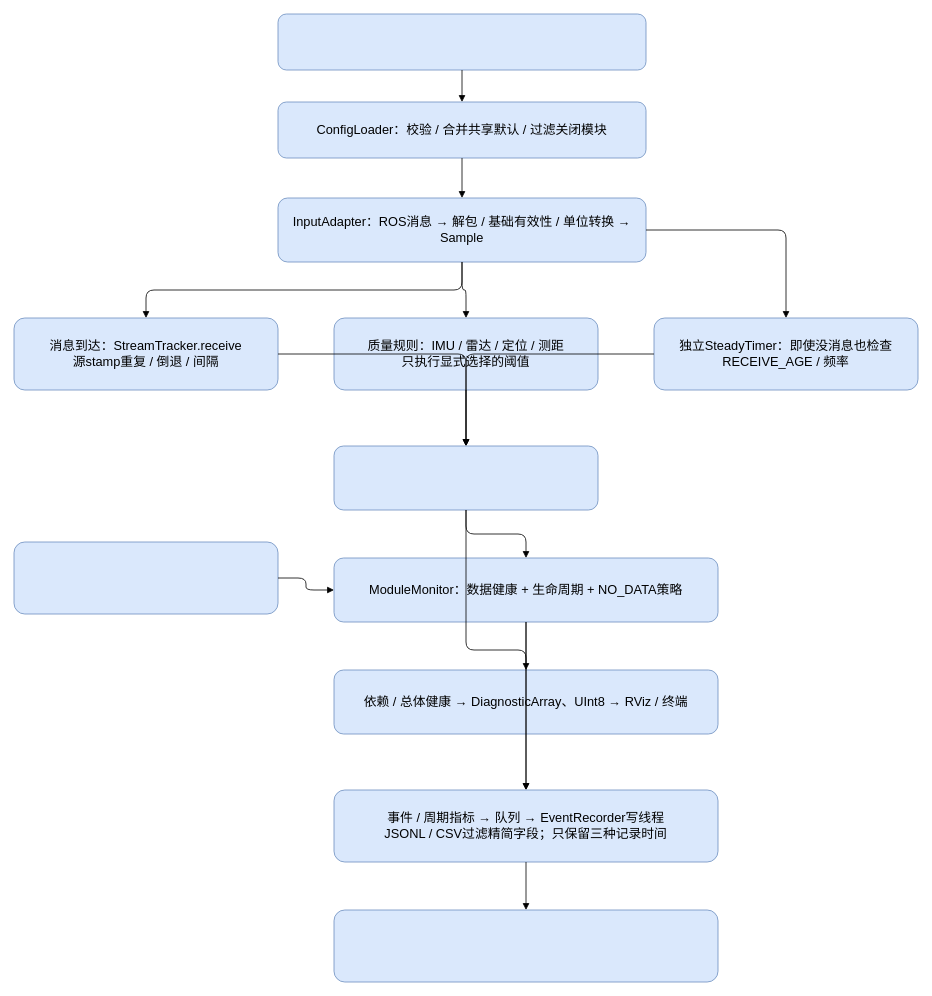
The diagram is 932 pixels wide and 996 high, and some of its shapes have lost their labels. Each missing label, with the centre of its shape:
"RuleLatch：每条规则的触发 / 保持 / 恢复" goes at (x=465, y=477).
"RuntimeState → LifecycleTracker RUN / PAUSE / STOP / FAULT" goes at (x=145, y=577).
"YAML：各模块/检测规则显式enabled true/false；保留阈值" goes at (x=461, y=41).
"验证正常EOF → finish：排空、flush/fsync、封存 日志不再增长，诊断继续" goes at (x=525, y=945).
